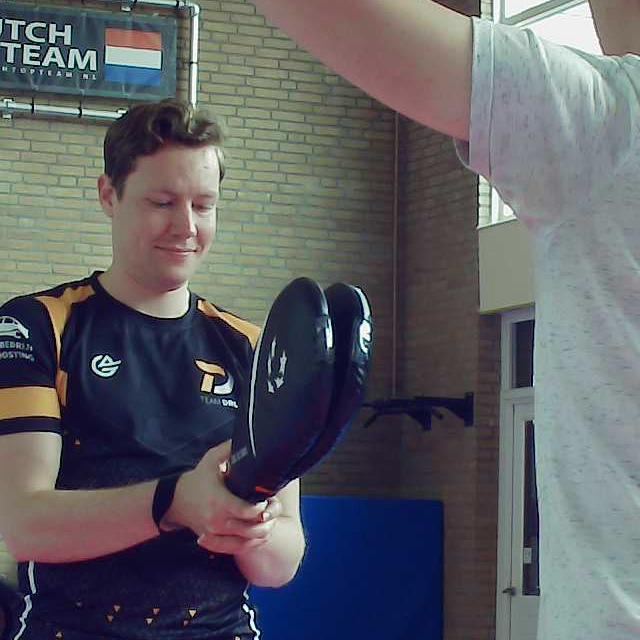paddle: (227, 281, 373, 496)
